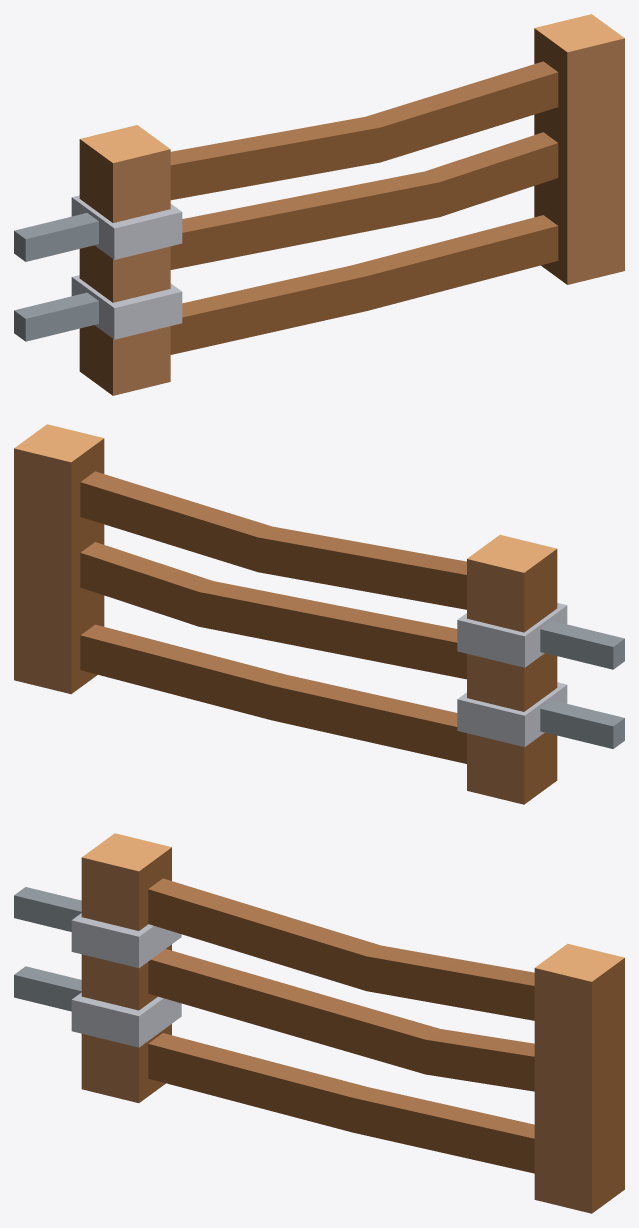
Rendered from WoodFenceGate.fbx.
3 views of the same model, one above another, from view 1: azimuth 30°, elevation 25°; view 2: azimuth 150°, elevation 25°; view 3: azimuth 330°, elevation 25° (orthographic).
Visible parts, largest first — view 1: WoodFenceGate; view 2: WoodFenceGate; view 3: WoodFenceGate.
Boxes of the visible parts, x1,y1,x2,y2 form: WoodFenceGate: (14, 14, 624, 395); WoodFenceGate: (14, 424, 624, 804); WoodFenceGate: (14, 833, 624, 1213).
Bounding box in the file's own units: 95.61 × 36.06 × 12.
